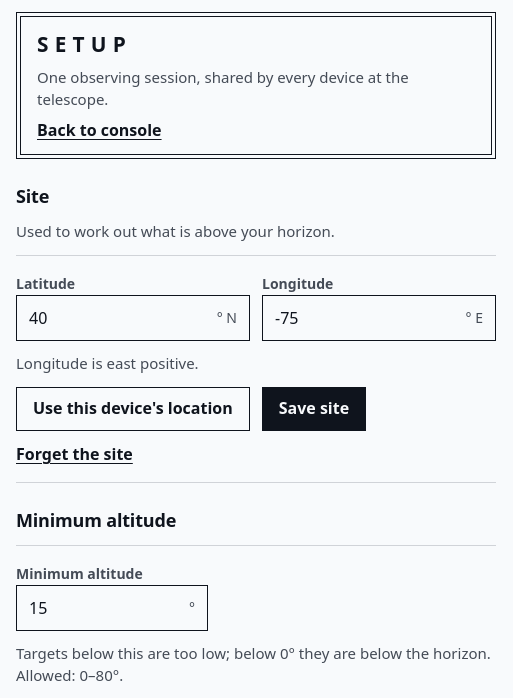
Setup › refuses minimum altitude 90 with the 0–80° range
The width and height of the screenshot is (513, 698).
Step 1. Type "90" into the field labelled "Minimum altitude" → (103, 608), box [17,586,189,630]
(page scrolled)
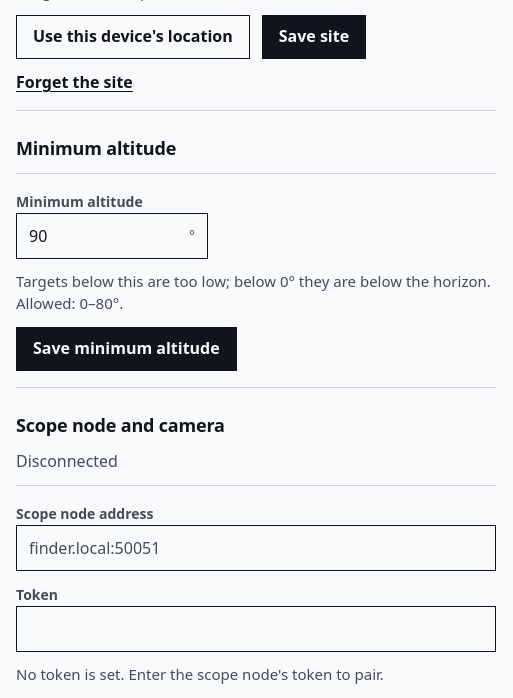
Step 2. Click the button "Save minimum altitude" → (126, 349), box [16,327,237,371]
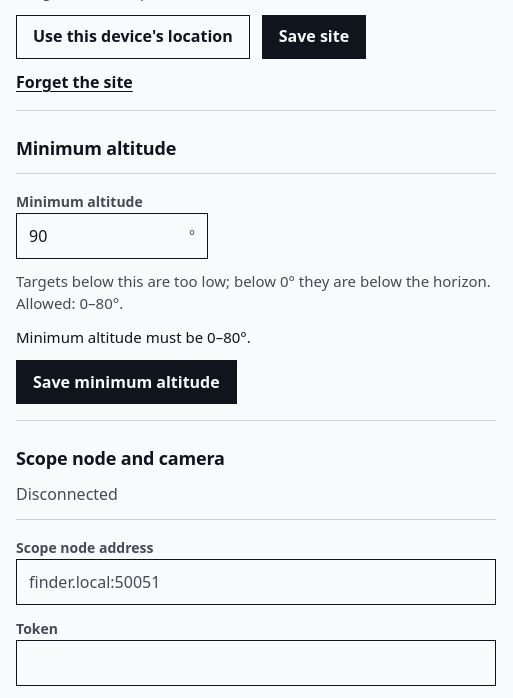
Check: the message shows "0–80°", box [16,327,251,347]
